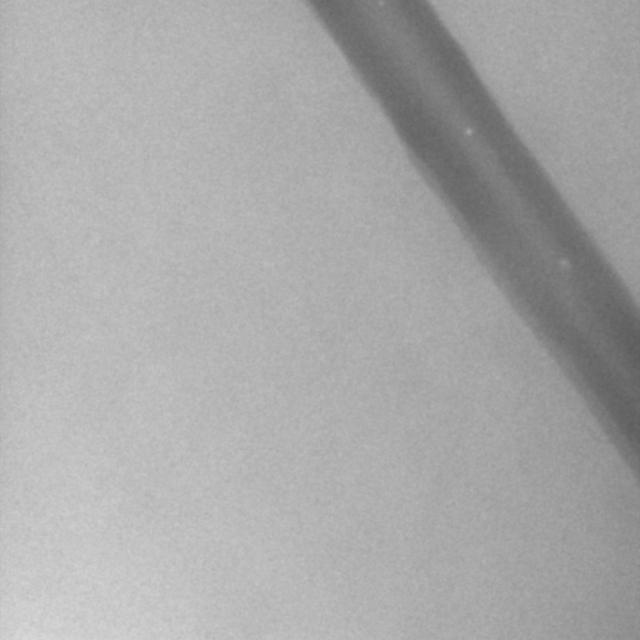air-hole: (560, 258, 573, 268), (466, 131, 476, 138)
